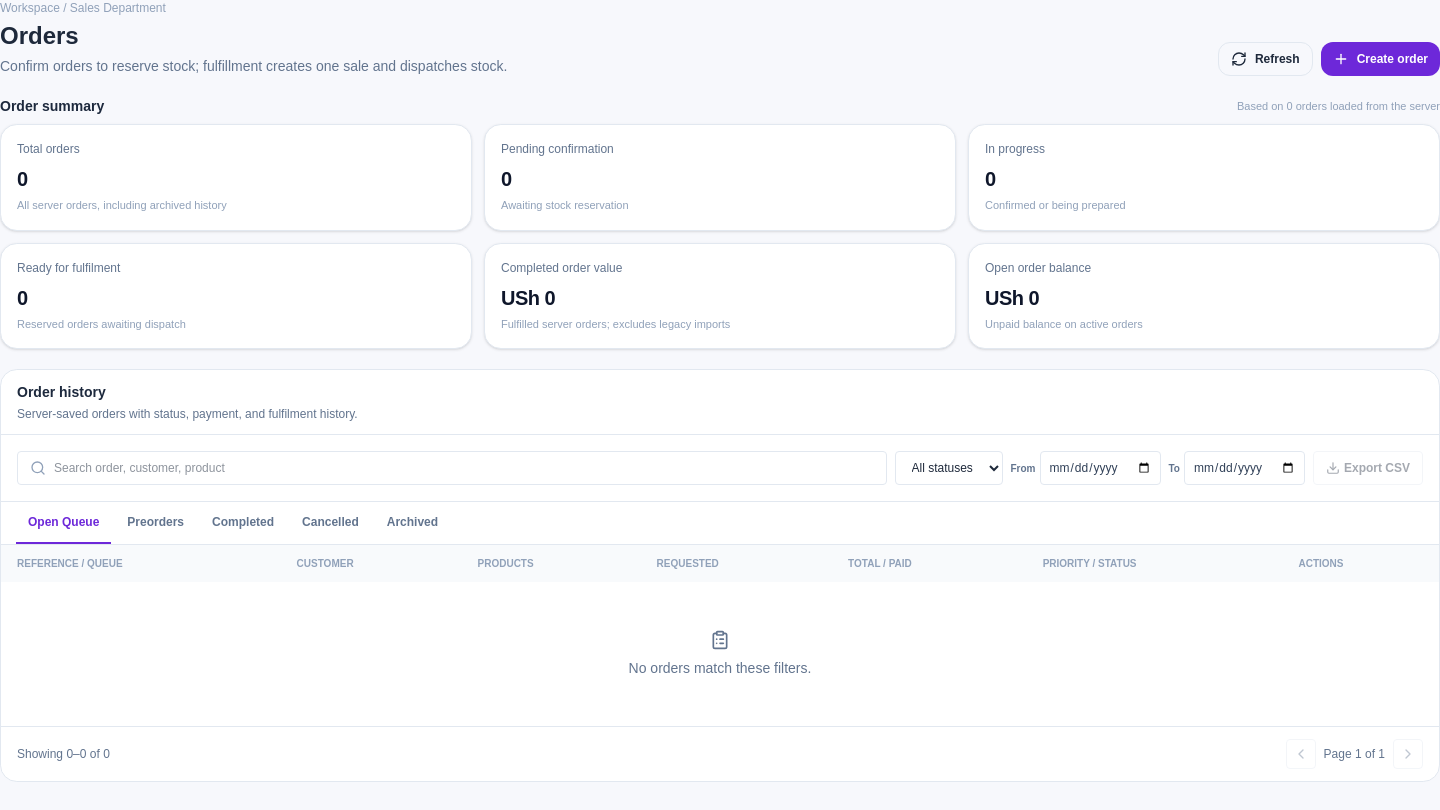
Test: orders-management › offers bakery SKU preorder lines without showing legacy beverage products
Click the button "Create order": (1380, 59) [1321,42,1439,76]
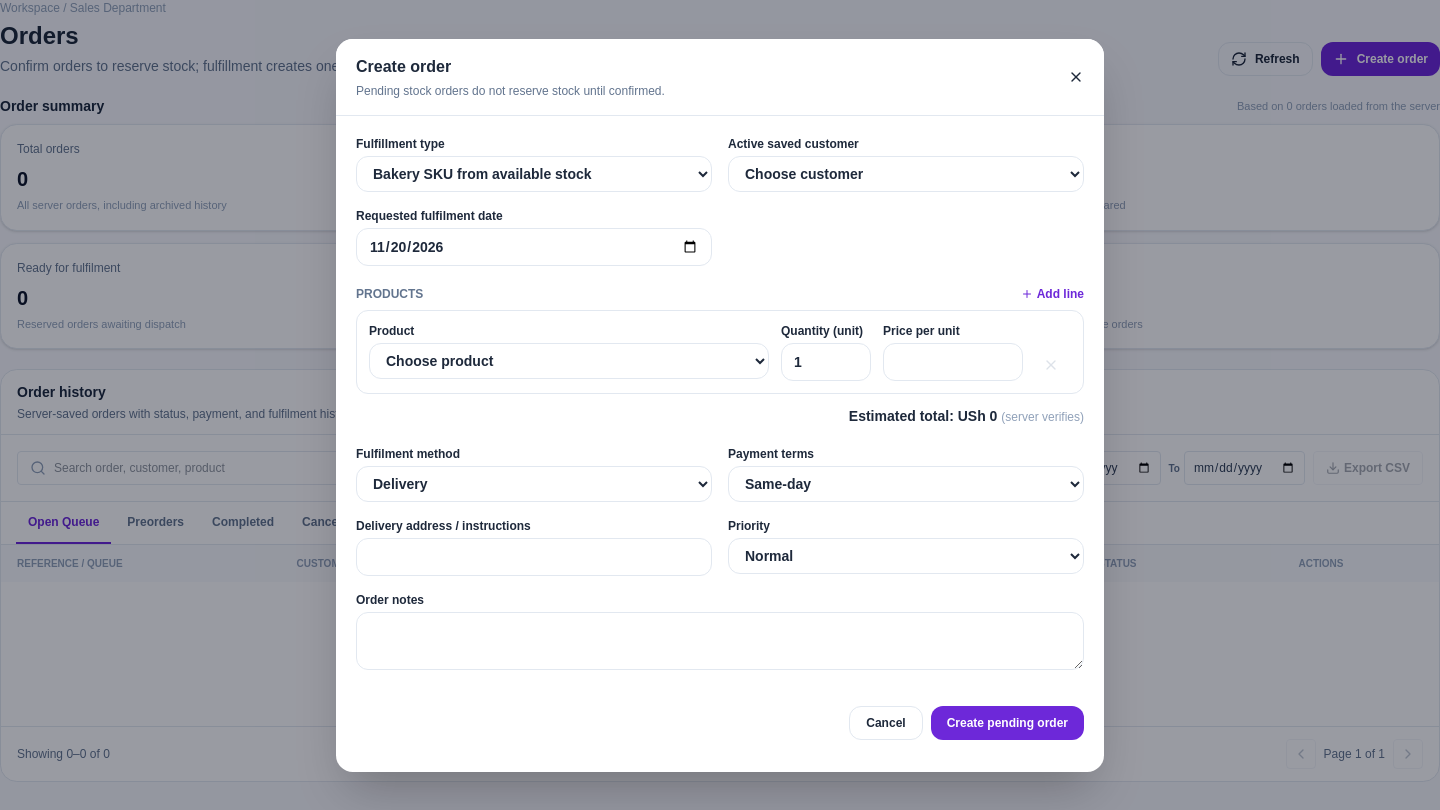
Select "Bakery preorder (future production)" in the dropdown labelled "Fulfillment type": (534, 174) [356,156,712,192]
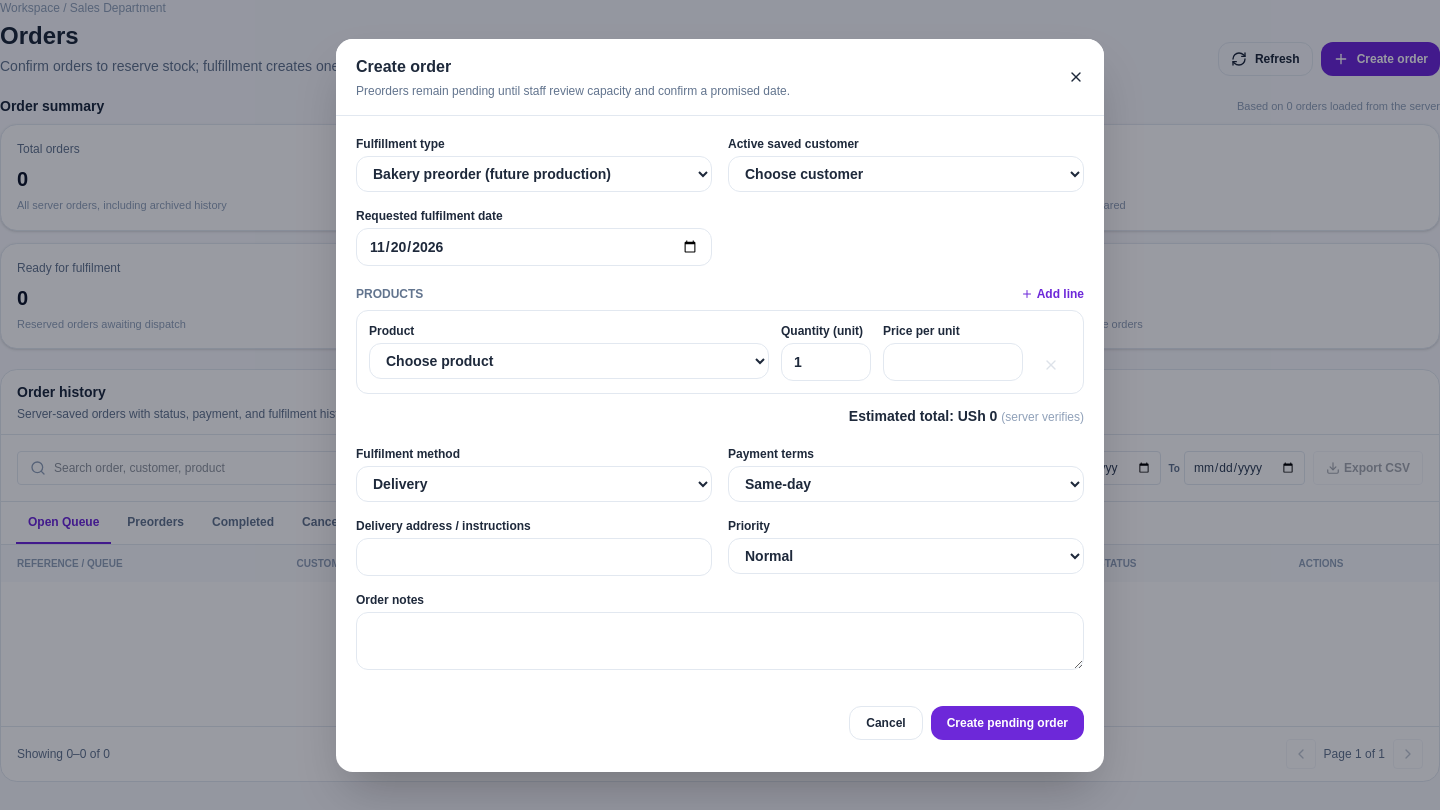
Select "Sourdough · SD-LOAF · USh 12,000/loaf · 0 available" in the dropdown labelled "Product": (569, 360) [369,342,769,378]
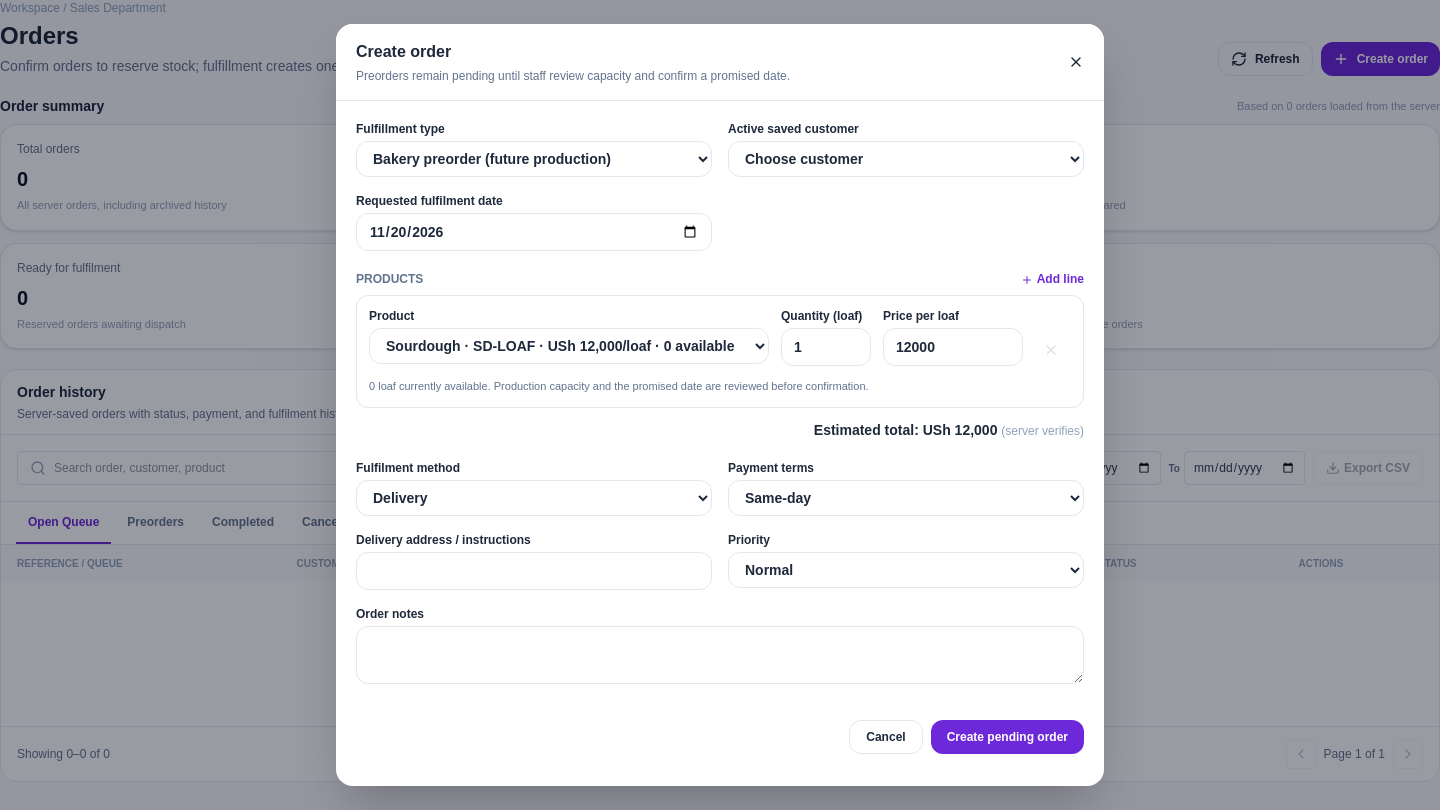
Check: the number field labelled "Quantity (loaf)" is shown, box [781,328,871,366]
Check: the text "Production capacity and the promised date are reviewed before confirmation" is shown, box [494,380,869,392]
